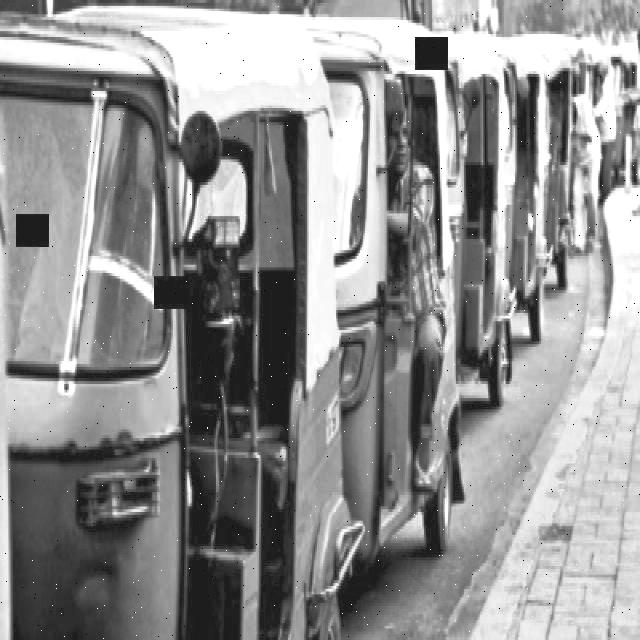Auto-Rickshaw: (1, 5, 348, 640), (295, 17, 468, 571)
